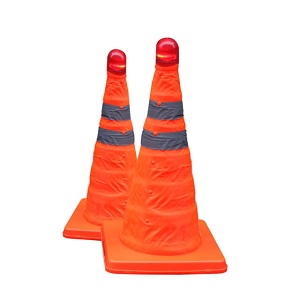traffic cone: (101, 38, 228, 275), (62, 48, 171, 241)
